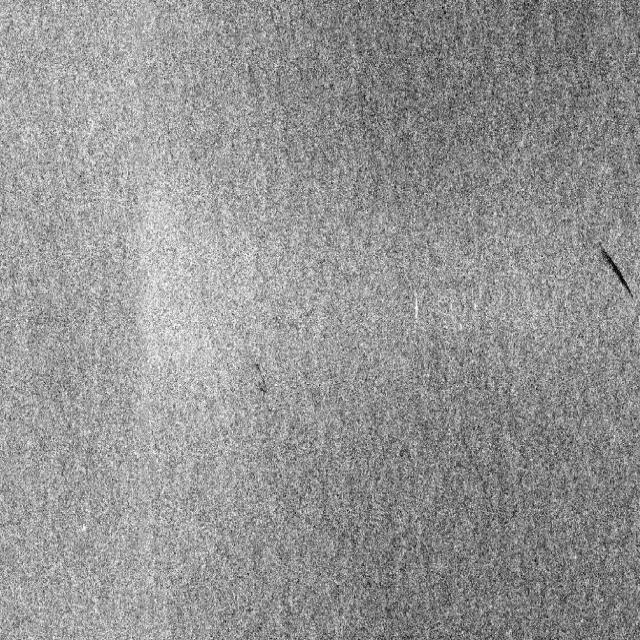oil-spill: (593, 221, 637, 312)
